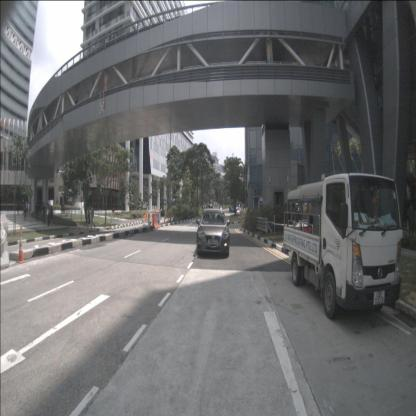human-pedestrian-adult: (90, 206, 96, 228), (42, 202, 46, 224), (84, 206, 88, 228), (46, 204, 50, 226), (22, 202, 26, 220), (75, 97, 79, 115), (50, 205, 53, 226), (36, 202, 39, 222), (88, 206, 90, 228), (17, 200, 19, 214), (25, 202, 27, 216), (28, 202, 30, 214)
movable_object-barrier: (0, 222, 10, 268), (147, 213, 157, 229), (152, 213, 161, 229)
movable_object-trafficcone: (16, 233, 26, 263)
vehicle-car: (196, 209, 230, 257), (229, 206, 236, 213)
vehicle-truck: (282, 172, 404, 319)
